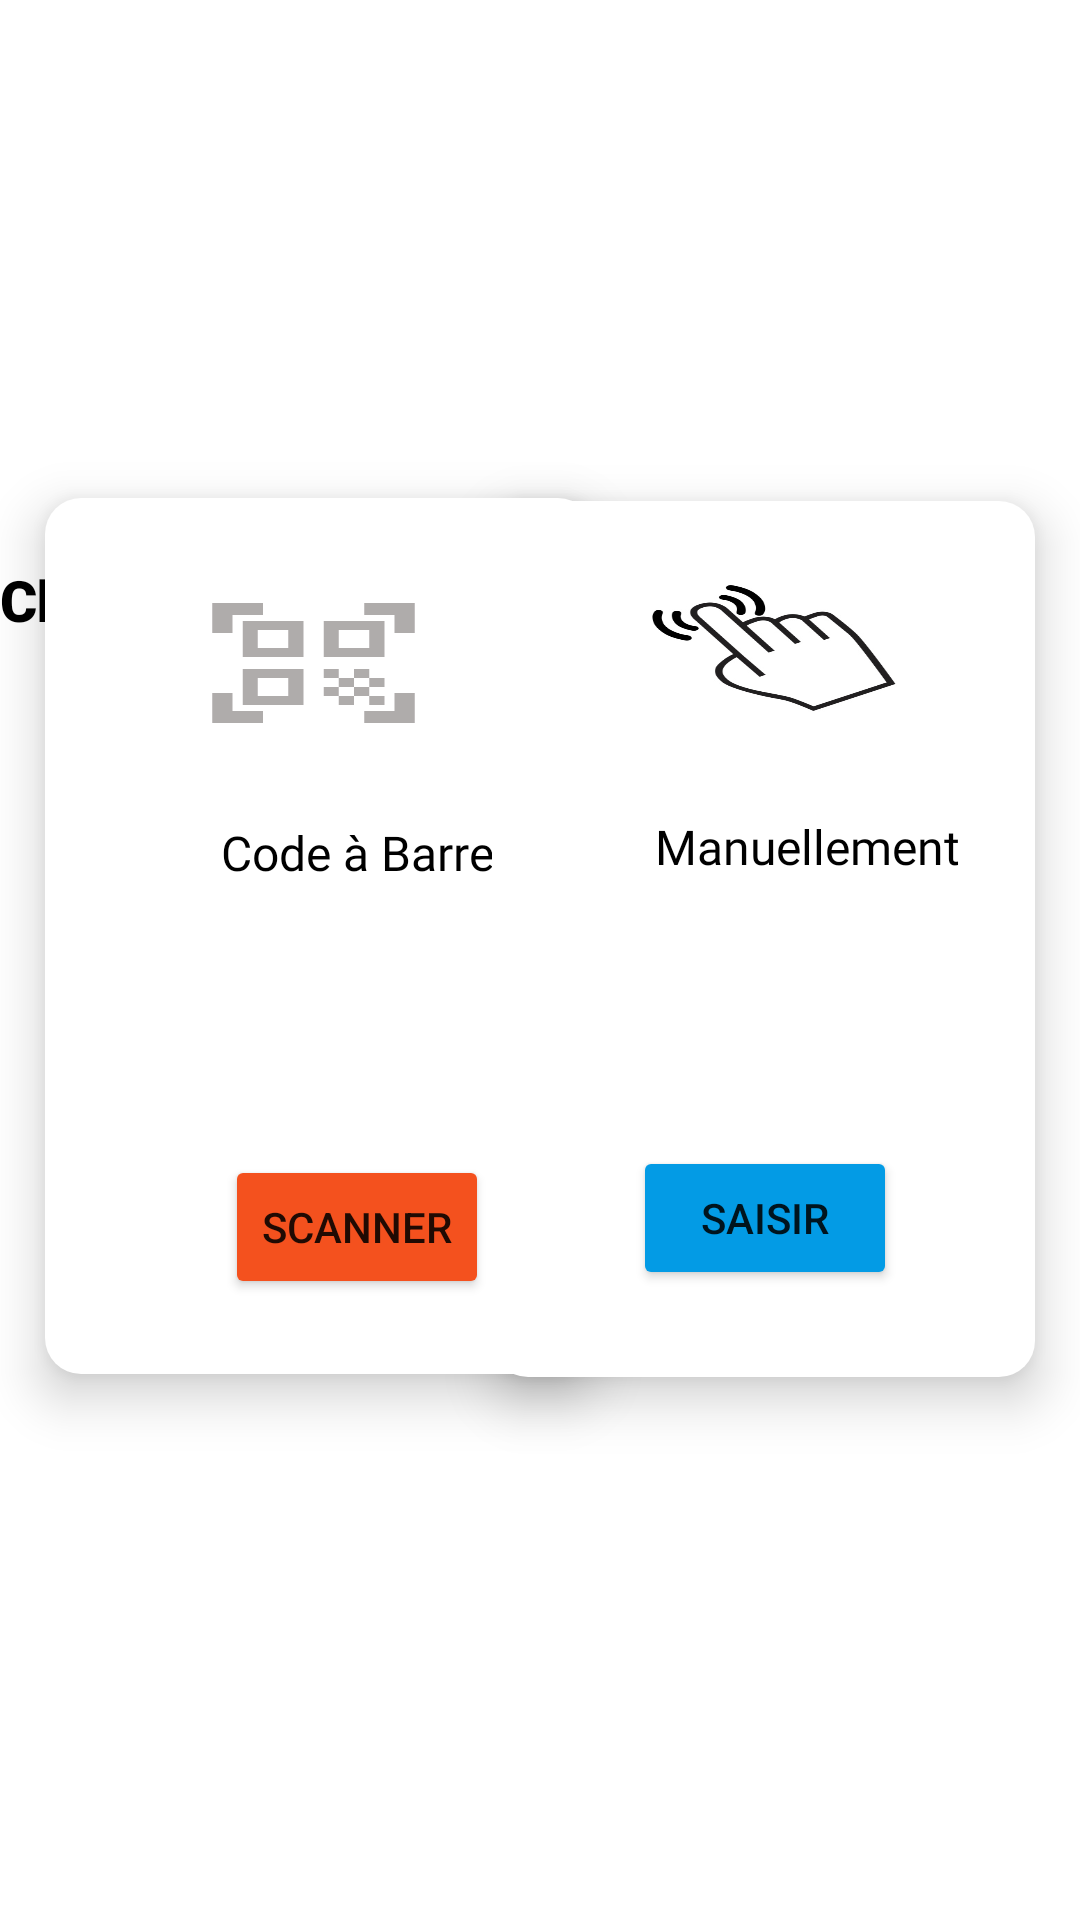

Icon click points for this 1080w x 1920h phone screenshot, format point (x, y):
hand: point (774, 648)
